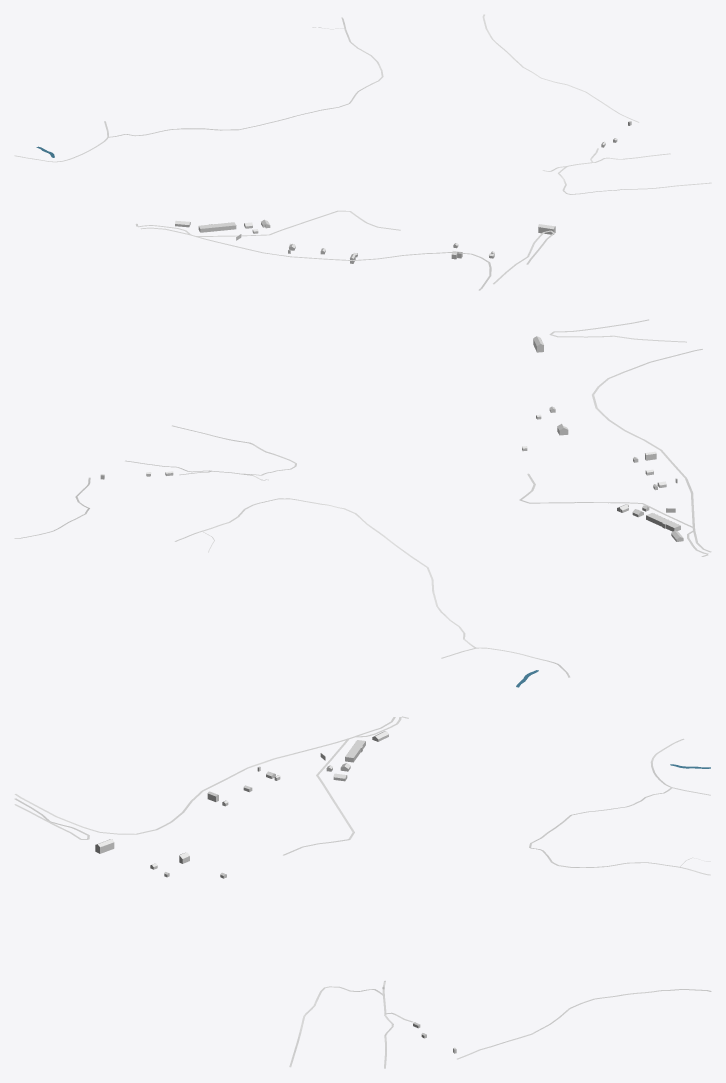
File: objekty.glb
3 views of the same model, one above another, from view 1: azimuth 30°, elevation 25°; view 2: azimuth 150°, elevation 25°; view 3: azimuth 270°, elevation 25° (orthographic). The views are drawn at different scales.
Visible parts, largest first — view 1: Cesty_08_04, Budovy_08_04; view 2: Cesty_08_04, Budovy_08_04; view 3: Cesty_08_04, Budovy_08_04.
Boxes of the visible parts, x1,y1,x2,y2 form: Cesty_08_04: (14,14,711,290); Budovy_08_04: (175,121,631,263); Cesty_08_04: (14,319,711,677); Budovy_08_04: (100,336,683,541); Cesty_08_04: (14,716,711,1068); Budovy_08_04: (95,731,456,1053).
Size of the model in its own units: 1006 by 149 by 1005.
